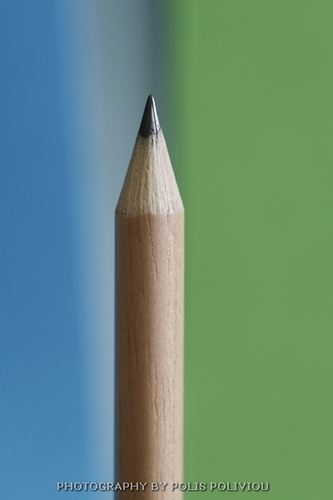pen_tip: (111, 89, 194, 247)
